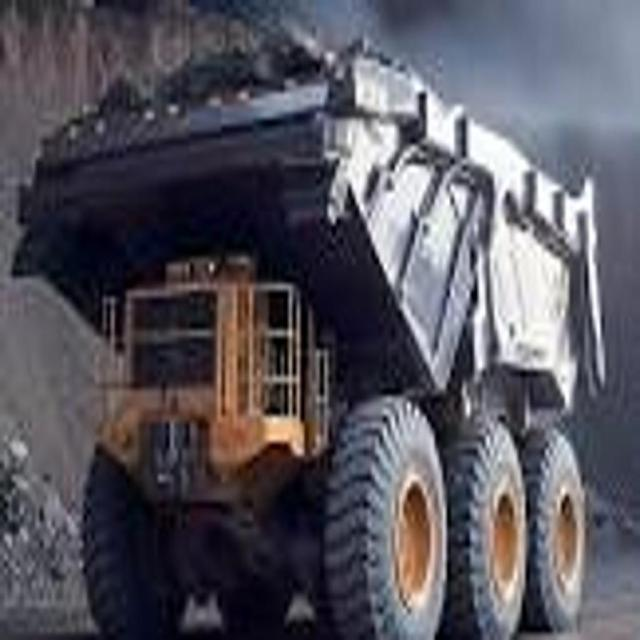dump_truck: (14, 48, 597, 640)
